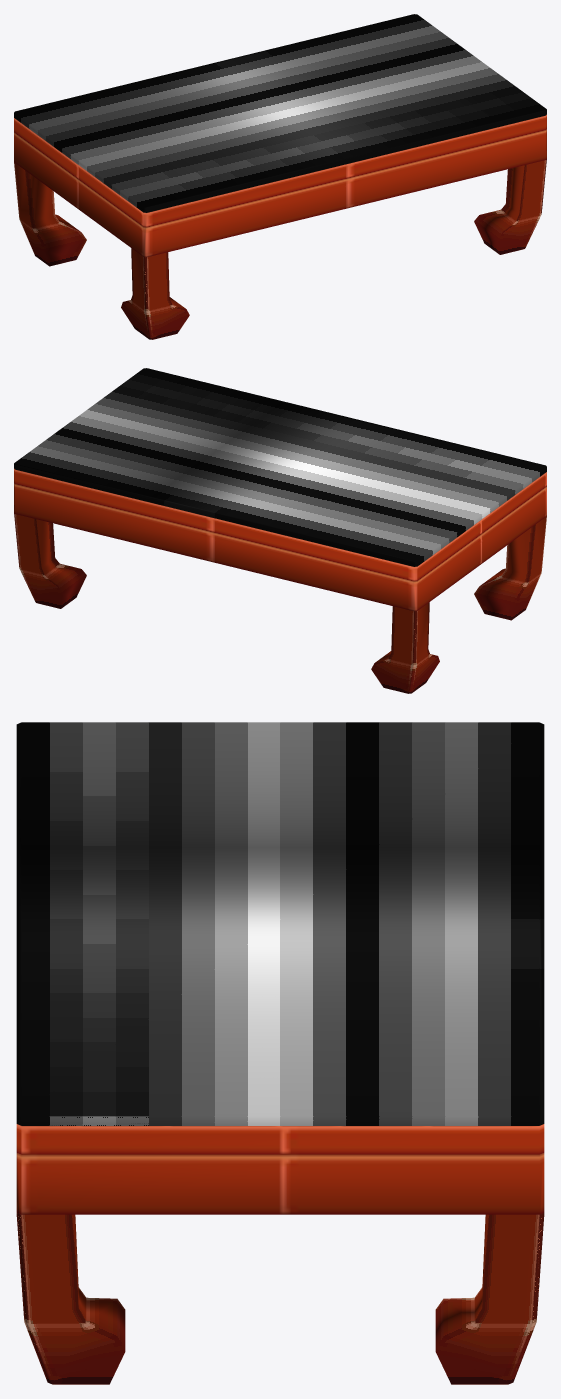
File: int_oth_ska_tableM.dae
3 renders of one model, top to bottom at view 1: azimuth 30°, elevation 25°; view 2: azimuth 150°, elevation 25°; view 3: azimuth 270°, elevation 25°, orthographic. The views are drawn at different scales.
Parts seen in each view (by area): view 1: int_oth_ska_tableM; view 2: int_oth_ska_tableM; view 3: int_oth_ska_tableM.
Part boxes in pixels (left/top/right/bottom): int_oth_ska_tableM: left=14, top=14, right=546, bottom=339; int_oth_ska_tableM: left=14, top=368, right=546, bottom=693; int_oth_ska_tableM: left=16, top=722, right=544, bottom=1384.
Size of the model in its own units: 48 by 16 by 27.2.
Materials: 3 (3 with a texture image).
